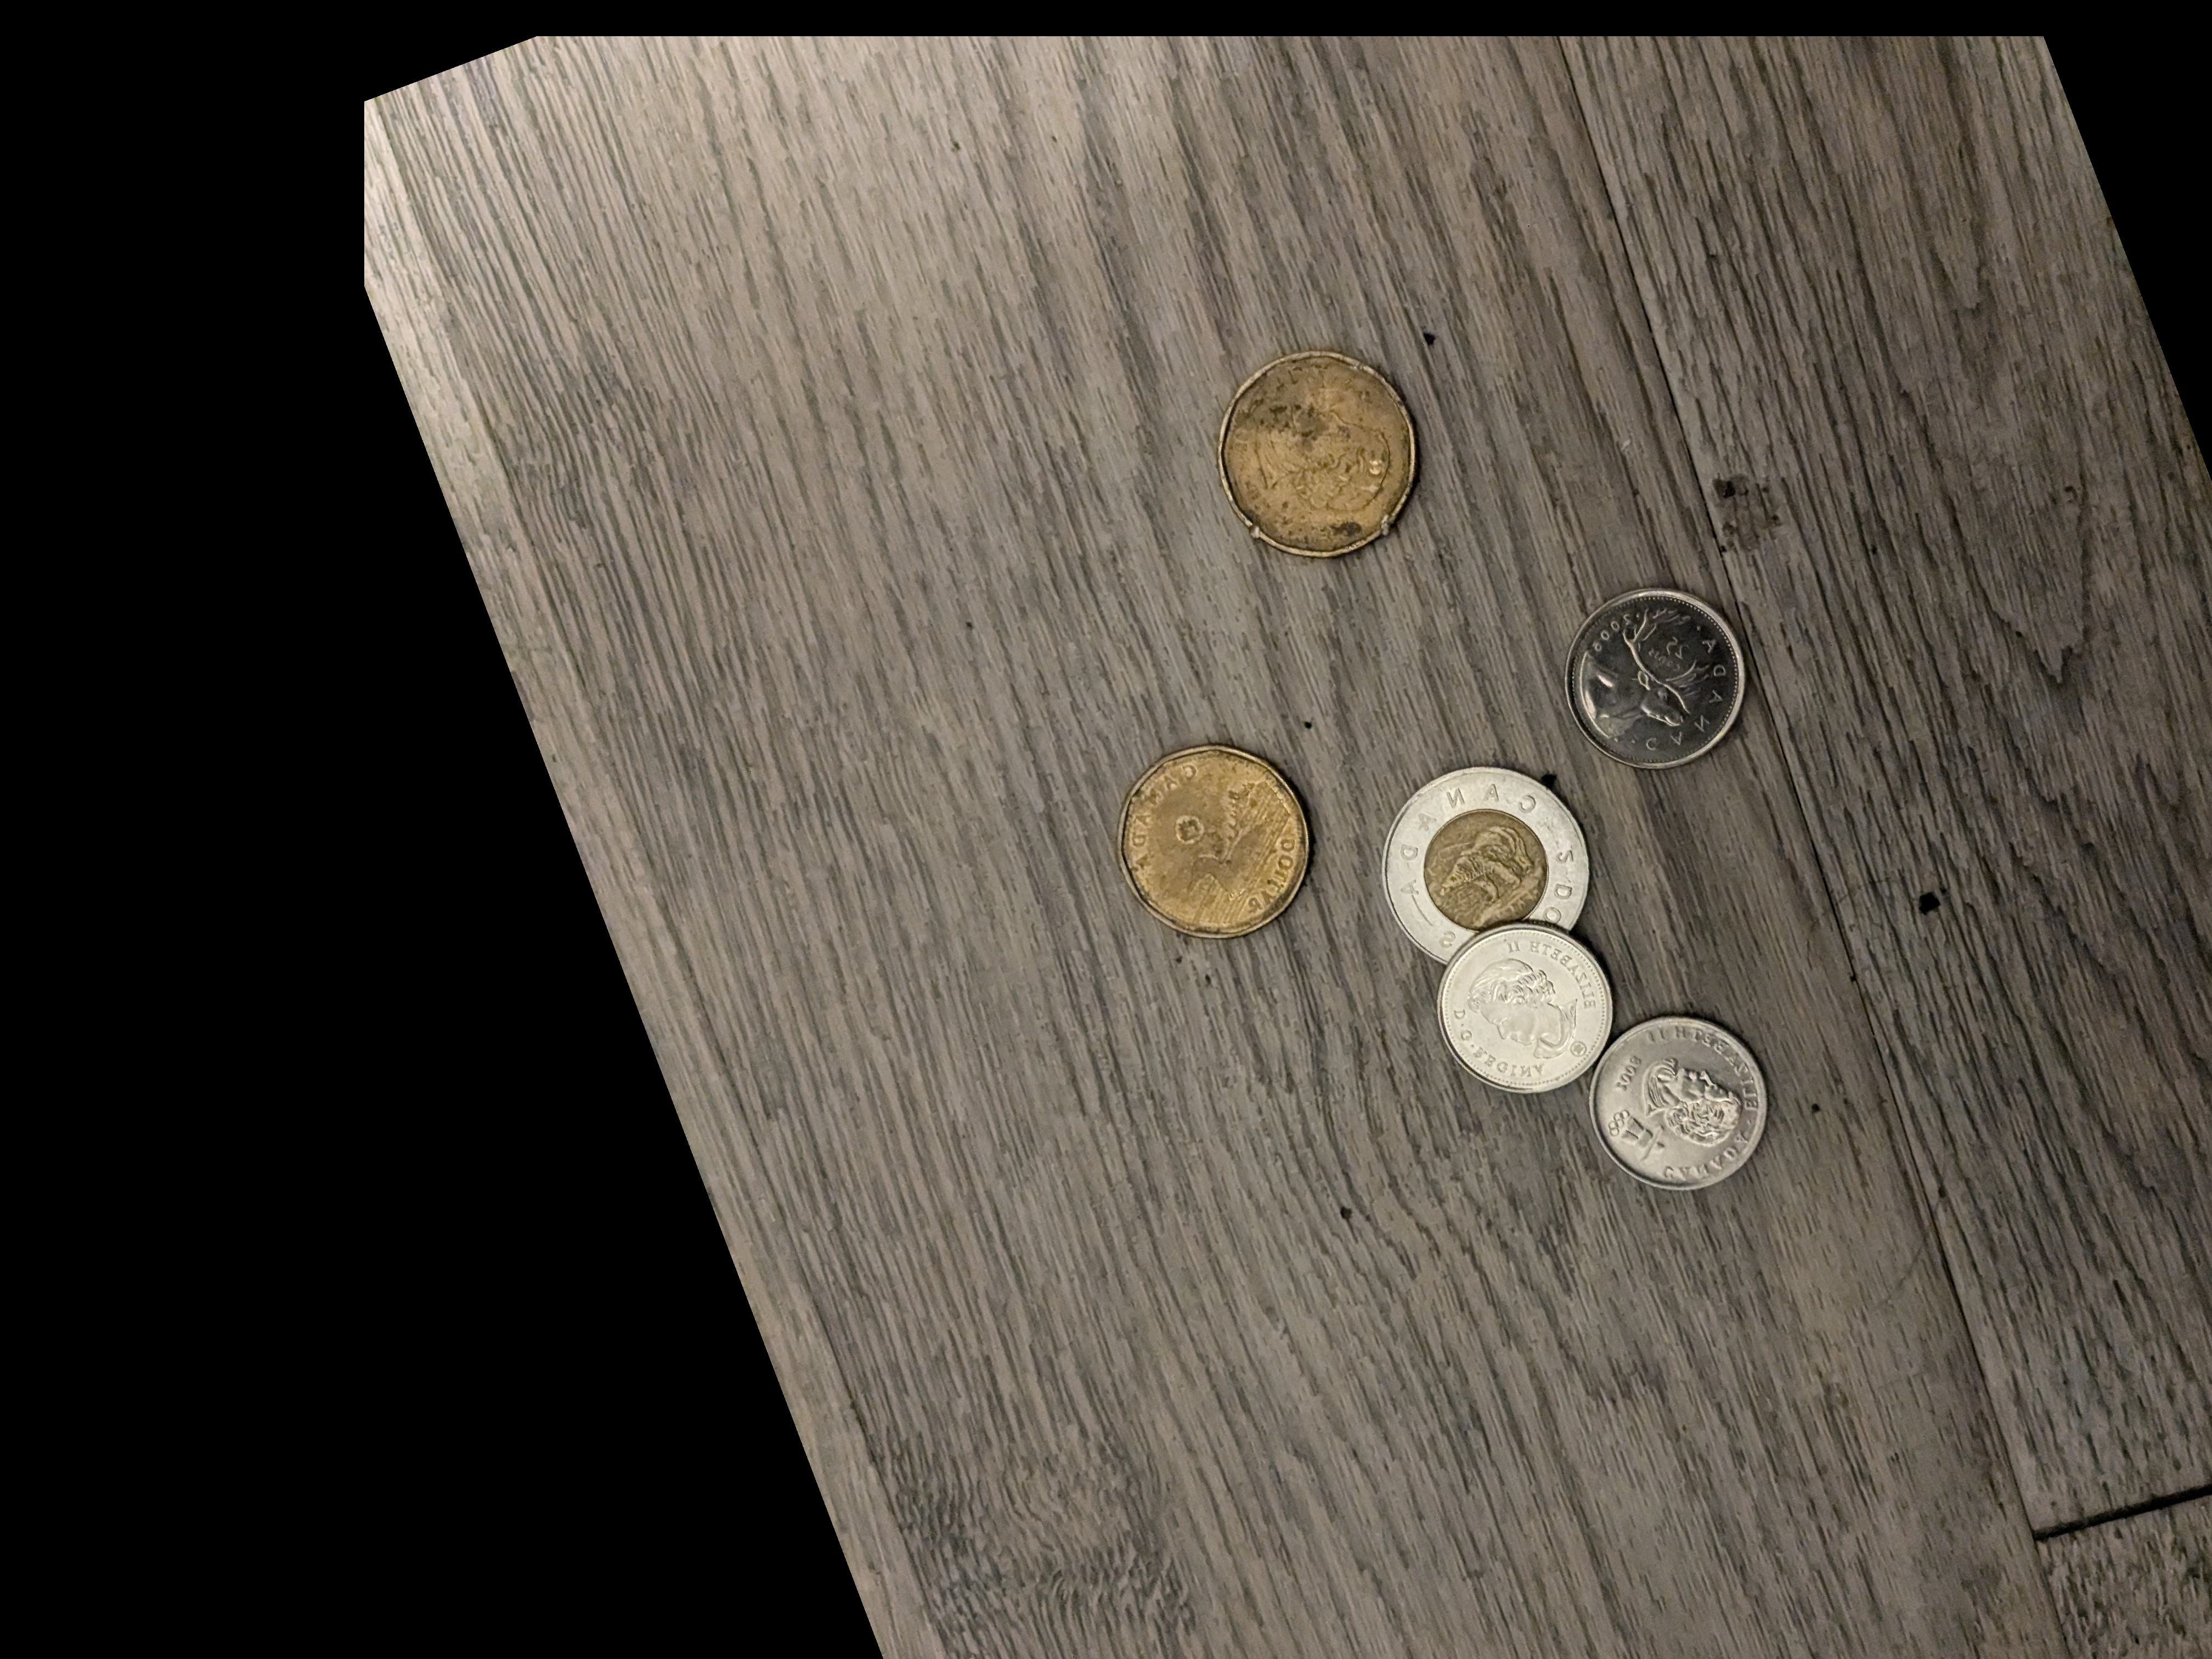loonie: (1221, 356, 1425, 556), (1125, 741, 1310, 938)
quarter: (1566, 587, 1749, 774), (1592, 1014, 1770, 1194), (1435, 938, 1615, 1096)
toonie: (1385, 763, 1588, 962)
